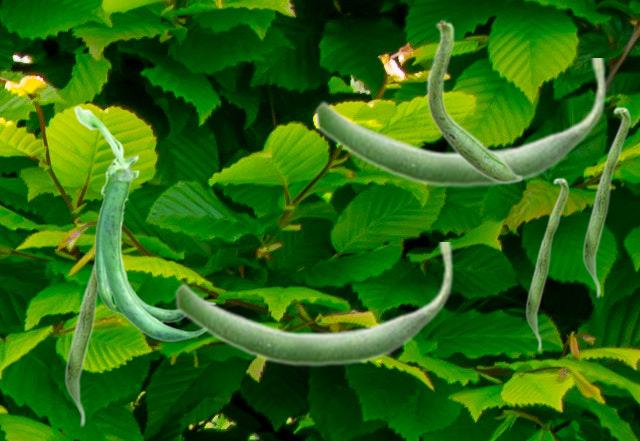french_bean: (314, 58, 606, 188), (174, 242, 453, 367), (73, 105, 216, 341), (426, 18, 522, 183), (582, 106, 630, 298), (525, 177, 568, 351), (64, 215, 98, 427)
